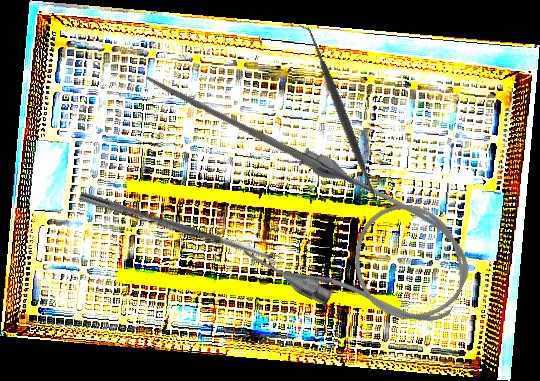Cannula: (237, 142, 488, 357)
Scalpel Handle: (144, 73, 360, 191)
Spatula Surgical: (296, 18, 388, 212)
Surgical Spoon: (78, 191, 283, 267)
